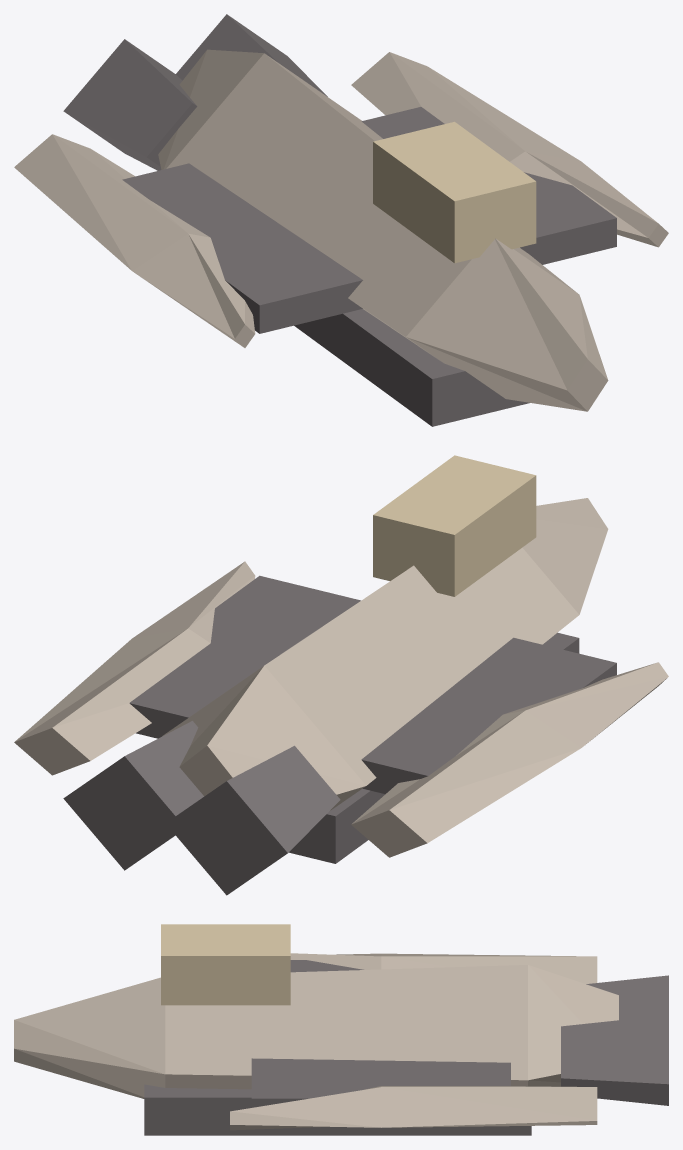
The picture shows the model from 3 angles, top to bottom: view 1: azimuth 30°, elevation 25°; view 2: azimuth 150°, elevation 25°; view 3: azimuth 270°, elevation 25°; orthographic projection. The views are drawn at different scales.
Size of the model in its own units: 3.63 by 1.71 by 5.76.
